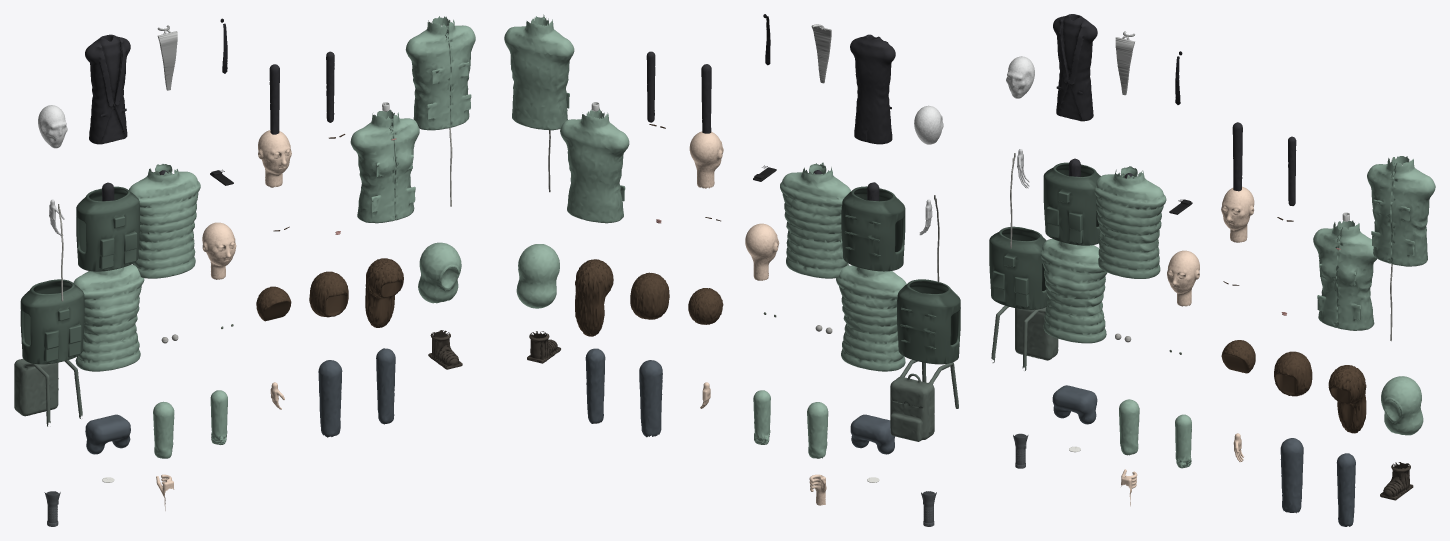
File: characters.glb
3 renders of one model, left to right at view 1: azimuth 30°, elevation 25°; view 2: azimuth 150°, elevation 25°; view 3: azimuth 330°, elevation 25°, orthographic. The views are drawn at different scales.
Visible parts, largest first — view 1: survivor_torso_padded_m, survivor_torso_field_m, survivor_torso_field_f, survivor_torso_padded_f, survivor_vest_f, survivor_vest_m, slender_jacket, survivor_backpack, survivor_hood, survivor_hair_long, survivor_thigh, survivor_hair_bob (+12 smaller); view 2: survivor_torso_padded_m, survivor_torso_field_m, survivor_torso_field_f, survivor_torso_padded_f, survivor_vest_f, survivor_vest_m, slender_jacket, survivor_backpack, survivor_hood, survivor_hair_long, survivor_thigh, survivor_hair_bob (+12 smaller); view 3: survivor_torso_padded_m, survivor_torso_field_m, survivor_torso_padded_f, survivor_torso_field_f, survivor_vest_f, survivor_vest_m, slender_jacket, survivor_hood, survivor_backpack, survivor_hair_long, survivor_thigh, survivor_hair_bob (+12 smaller).
Boxes of the visible parts, x1=… form: survivor_torso_padded_m: x1=129, y1=164, x2=200, y2=278; survivor_torso_field_m: x1=405, y1=16, x2=475, y2=130; survivor_torso_field_f: x1=350, y1=109, x2=419, y2=223; survivor_torso_padded_f: x1=73, y1=264, x2=144, y2=371; survivor_vest_f: x1=20, y1=279, x2=84, y2=364; survivor_vest_m: x1=76, y1=186, x2=140, y2=271; slender_jacket: x1=85, y1=34, x2=130, y2=144; survivor_backpack: x1=14, y1=358, x2=82, y2=426; survivor_hood: x1=418, y1=242, x2=461, y2=303; survivor_hair_long: x1=365, y1=258, x2=403, y2=327; survivor_thigh: x1=318, y1=360, x2=342, y2=437; survivor_hair_bob: x1=309, y1=271, x2=348, y2=317; survivor_torso_padded_m: x1=780, y1=162, x2=851, y2=278; survivor_torso_field_m: x1=504, y1=14, x2=574, y2=130; survivor_torso_field_f: x1=560, y1=108, x2=629, y2=223; survivor_torso_padded_f: x1=836, y1=265, x2=906, y2=371; survivor_vest_f: x1=897, y1=279, x2=960, y2=364; survivor_vest_m: x1=841, y1=186, x2=905, y2=271; slender_jacket: x1=850, y1=34, x2=895, y2=144; survivor_backpack: x1=890, y1=360, x2=958, y2=441; survivor_hood: x1=516, y1=244, x2=559, y2=308; survivor_hair_long: x1=575, y1=259, x2=613, y2=336; survivor_thigh: x1=639, y1=360, x2=662, y2=437; survivor_hair_bob: x1=630, y1=272, x2=669, y2=319; survivor_torso_padded_m: x1=1094, y1=166, x2=1166, y2=278; survivor_torso_field_m: x1=1367, y1=156, x2=1435, y2=266; survivor_torso_padded_f: x1=1041, y1=239, x2=1107, y2=343; survivor_torso_field_f: x1=1313, y1=220, x2=1376, y2=330; survivor_vest_f: x1=989, y1=226, x2=1047, y2=309; survivor_vest_m: x1=1043, y1=162, x2=1100, y2=245; slender_jacket: x1=1053, y1=14, x2=1097, y2=121; survivor_hood: x1=1381, y1=376, x2=1423, y2=435; survivor_backpack: x1=991, y1=305, x2=1058, y2=370; survivor_hair_long: x1=1328, y1=365, x2=1366, y2=433; survivor_thigh: x1=1280, y1=438, x2=1303, y2=513; survivor_hair_bob: x1=1274, y1=351, x2=1312, y2=396.
Size of the model in its own units: 1.79 by 1.83 by 0.2621.
